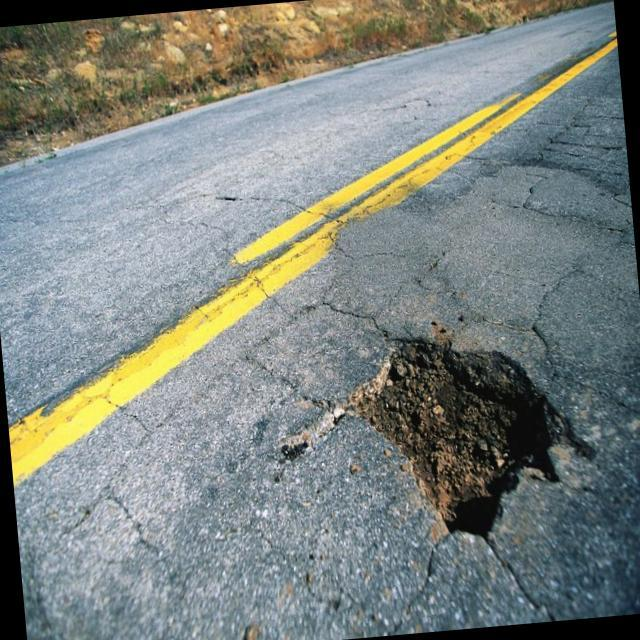Pothole: (264, 288, 606, 580)
